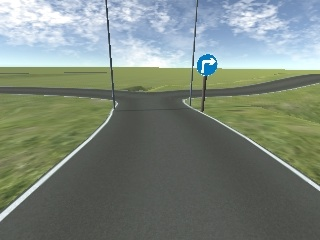turn_right_sign: (195, 52, 219, 77)
